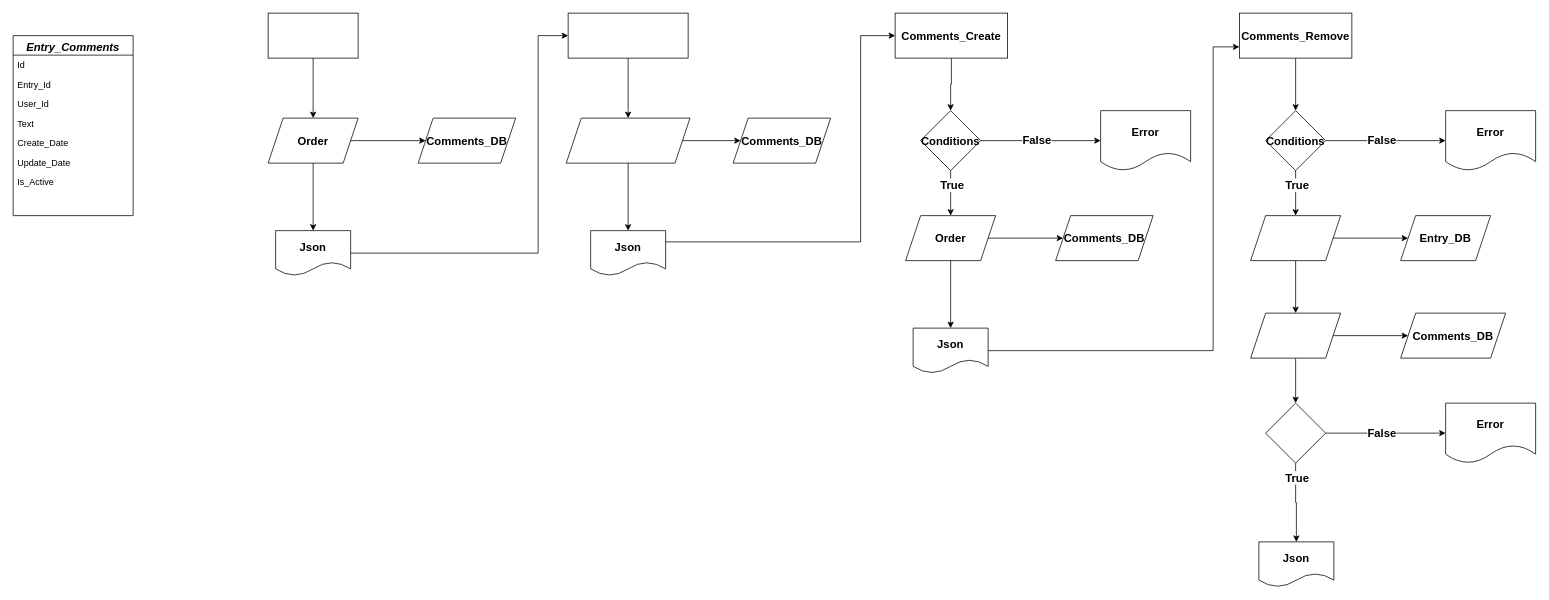
Image size: 1549x600. Some labels were removed from this diagram. Here are the shapes that lost their labels. From the top down, the centre of each, then its label:
the point at 312,35: Comments_Get
the point at 627,35: Comments_True_Get
the point at 628,140: Comment_Is_Active
the point at 1295,238: Entry_Code
the point at 1295,335: Comments_Id
the point at 1295,432: Matched
